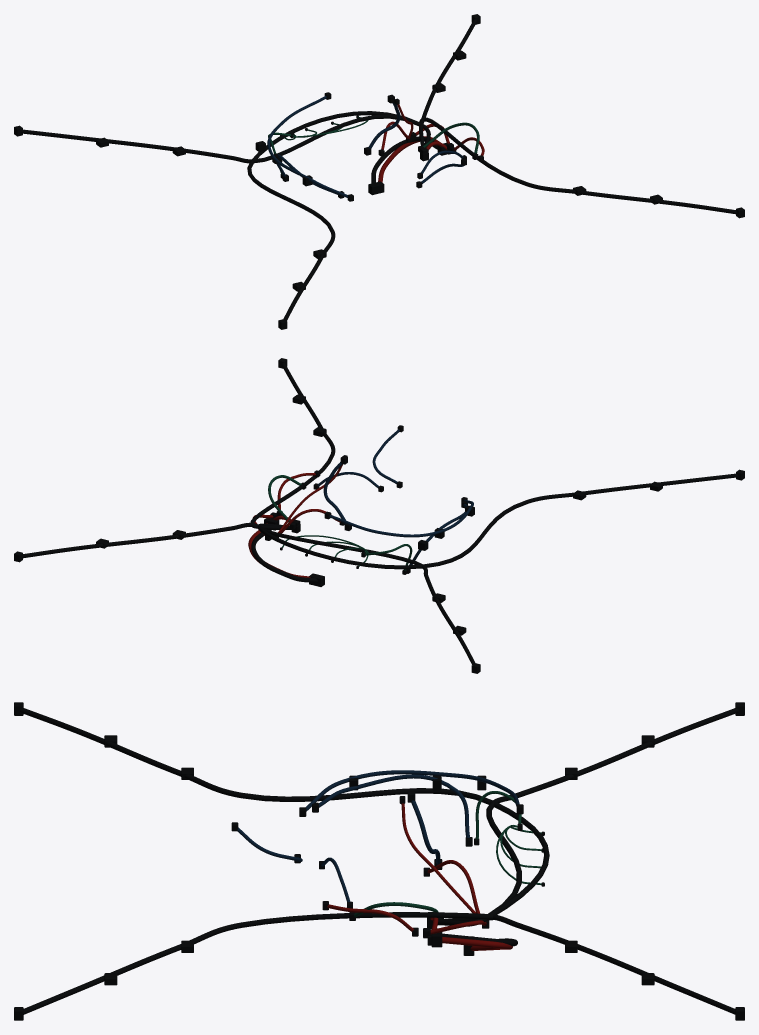
File: wires.obj
3 renders of one model, top to bottom at view 1: azimuth 30°, elevation 25°; view 2: azimuth 150°, elevation 25°; view 3: azimuth 270°, elevation 25°, orthographic. The views are drawn at different scales.
Visible parts, largest first — view 1: ESC_three_phase_loom.001, ESC_three_phase_loom, ESC_three_phase_loom.002, RFD900x_to_Jetson_UART, ESC_three_phase_loom.003; view 2: ESC_three_phase_loom, ESC_three_phase_loom.001, ESC_three_phase_loom.003, ESC_three_phase_loom.002, RFD900x_to_Jetson_UART; view 3: ESC_three_phase_loom, ESC_three_phase_loom.002, ESC_three_phase_loom.001, ESC_three_phase_loom.003, RFD900x_to_Jetson_UART, STM32_to_Jetson_UART, Battery_main_positive.
Part boxes in pixels (bbox=[...]): ESC_three_phase_loom.001: bbox=[20, 114, 430, 163]; ESC_three_phase_loom: bbox=[247, 111, 424, 320]; ESC_three_phase_loom.002: bbox=[419, 117, 736, 214]; RFD900x_to_Jetson_UART: bbox=[267, 95, 348, 197]; ESC_three_phase_loom.003: bbox=[419, 19, 477, 145]; ESC_three_phase_loom: bbox=[257, 473, 738, 569]; ESC_three_phase_loom.001: bbox=[259, 523, 475, 664]; ESC_three_phase_loom.003: bbox=[22, 522, 294, 558]; ESC_three_phase_loom.002: bbox=[250, 363, 335, 528]; RFD900x_to_Jetson_UART: bbox=[329, 499, 473, 537]; ESC_three_phase_loom: bbox=[20, 708, 549, 921]; ESC_three_phase_loom.002: bbox=[23, 912, 493, 1014]; ESC_three_phase_loom.001: bbox=[437, 708, 738, 926]; ESC_three_phase_loom.003: bbox=[438, 914, 735, 1014]; RFD900x_to_Jetson_UART: bbox=[306, 770, 519, 811]; STM32_to_Jetson_UART: bbox=[319, 774, 469, 837]; Battery_main_positive: bbox=[442, 937, 512, 950].
Size of the model in its own units: 0.5715 by 0.1336 by 0.5715.
